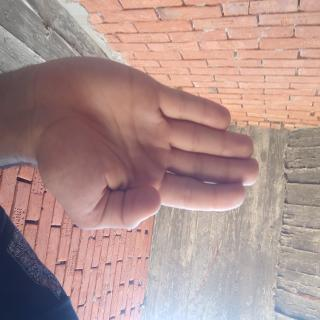SEEN: (39, 75, 175, 320)
